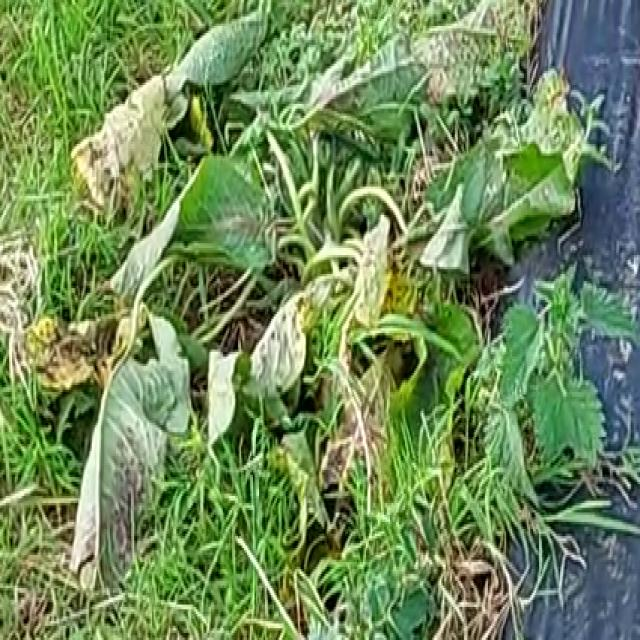organic waste: (54, 7, 607, 576)
